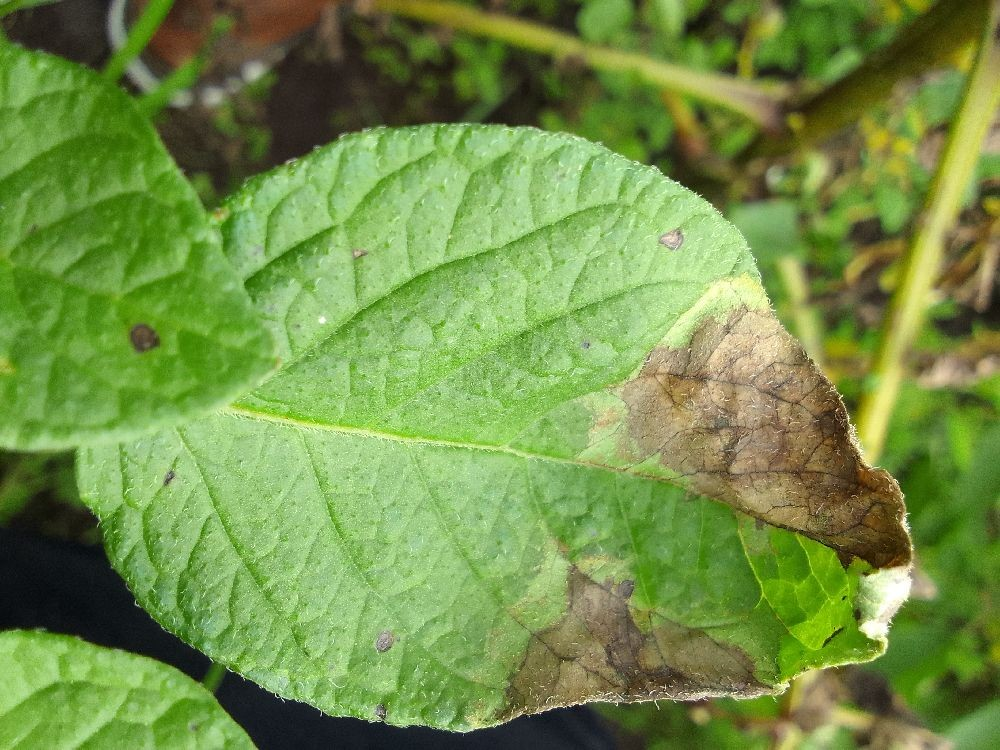late_blight: (589, 0, 999, 614), (80, 0, 663, 255), (0, 443, 110, 556), (0, 0, 132, 86)
